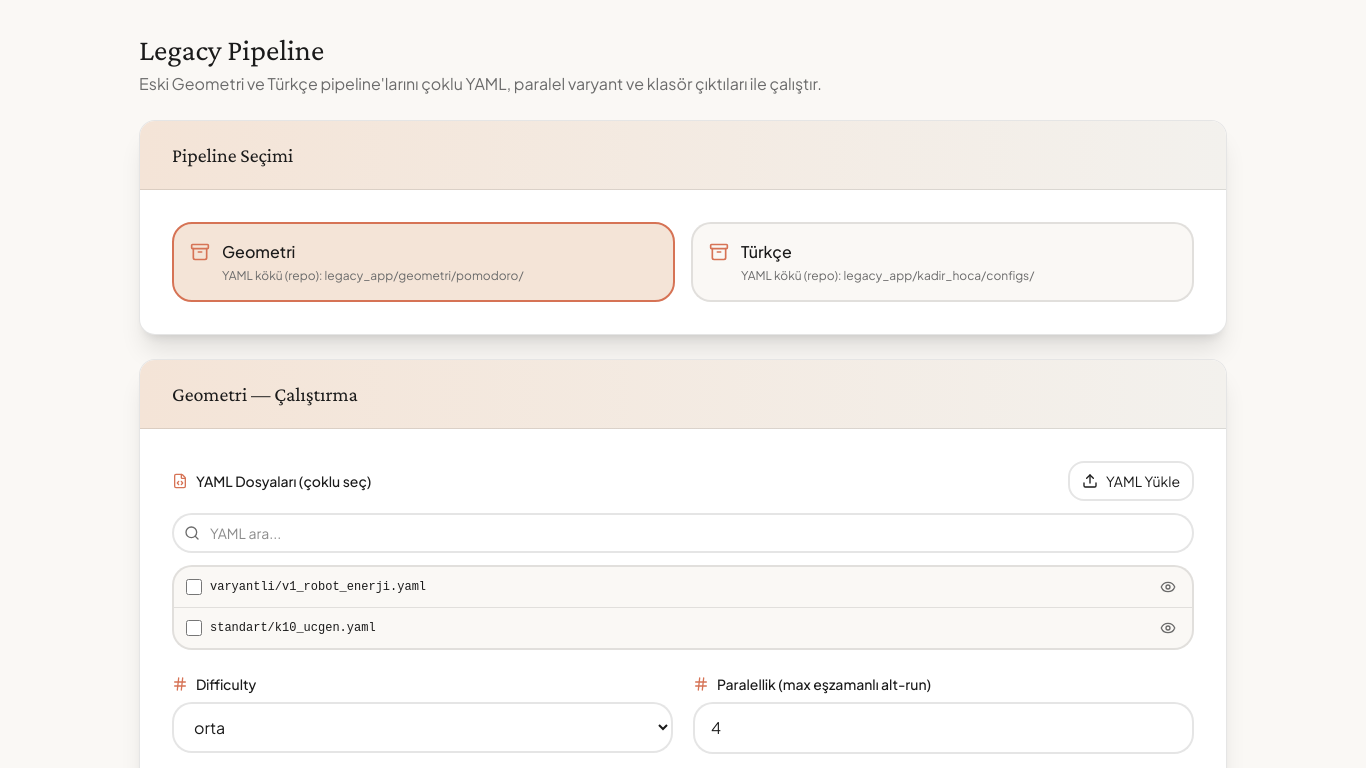
Test: LegacyPipelinePage › uploaded YAML için drawer 'Repo YAML düzenliyorsun' uyarısını göstermez
The width and height of the screenshot is (1366, 768).
Click the button "Türkçe YAML kökü (repo): legacy_app/kadir_hoca/configs/" at (766, 252), box [691,222,1194,302]
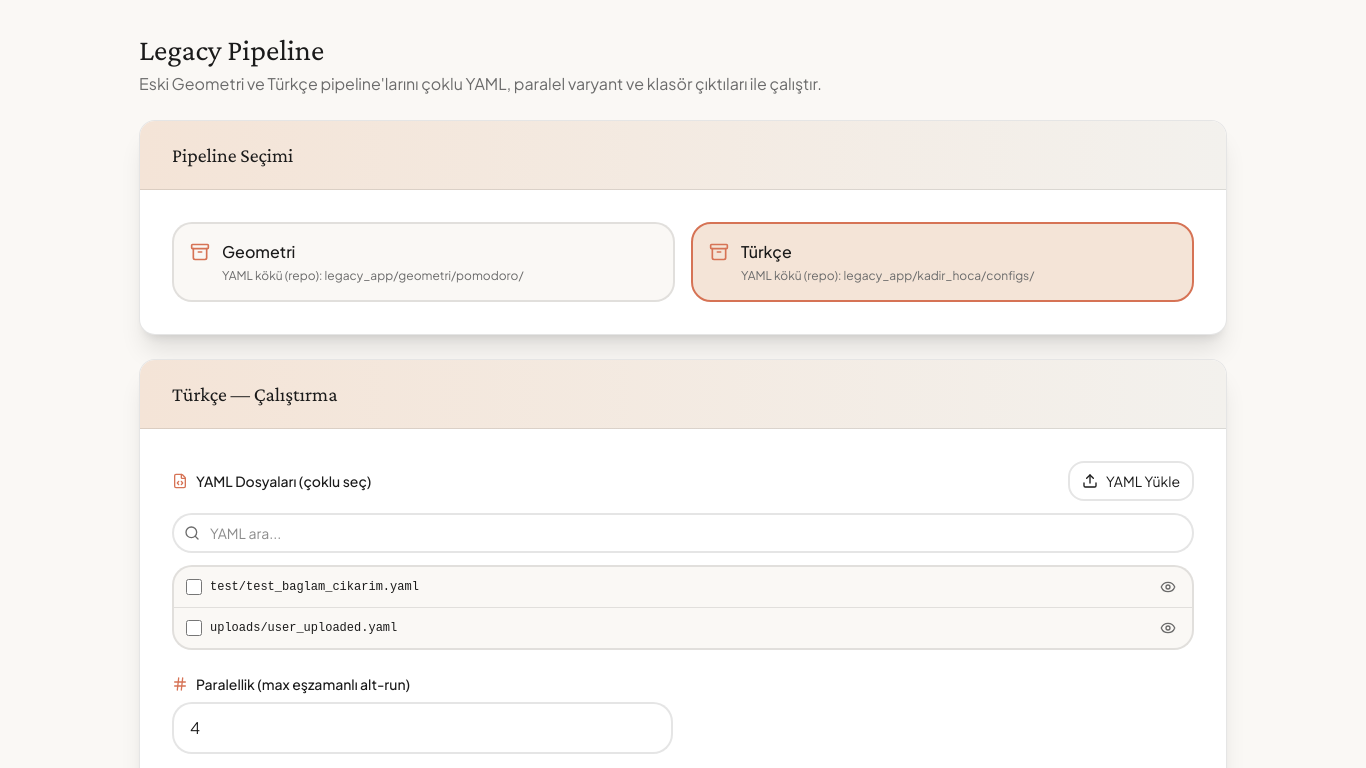
Click the button named "YAML görüntüle/düzenle: uploads/user_uploaded.yaml" at (1168, 628), box [1156,616,1180,640]
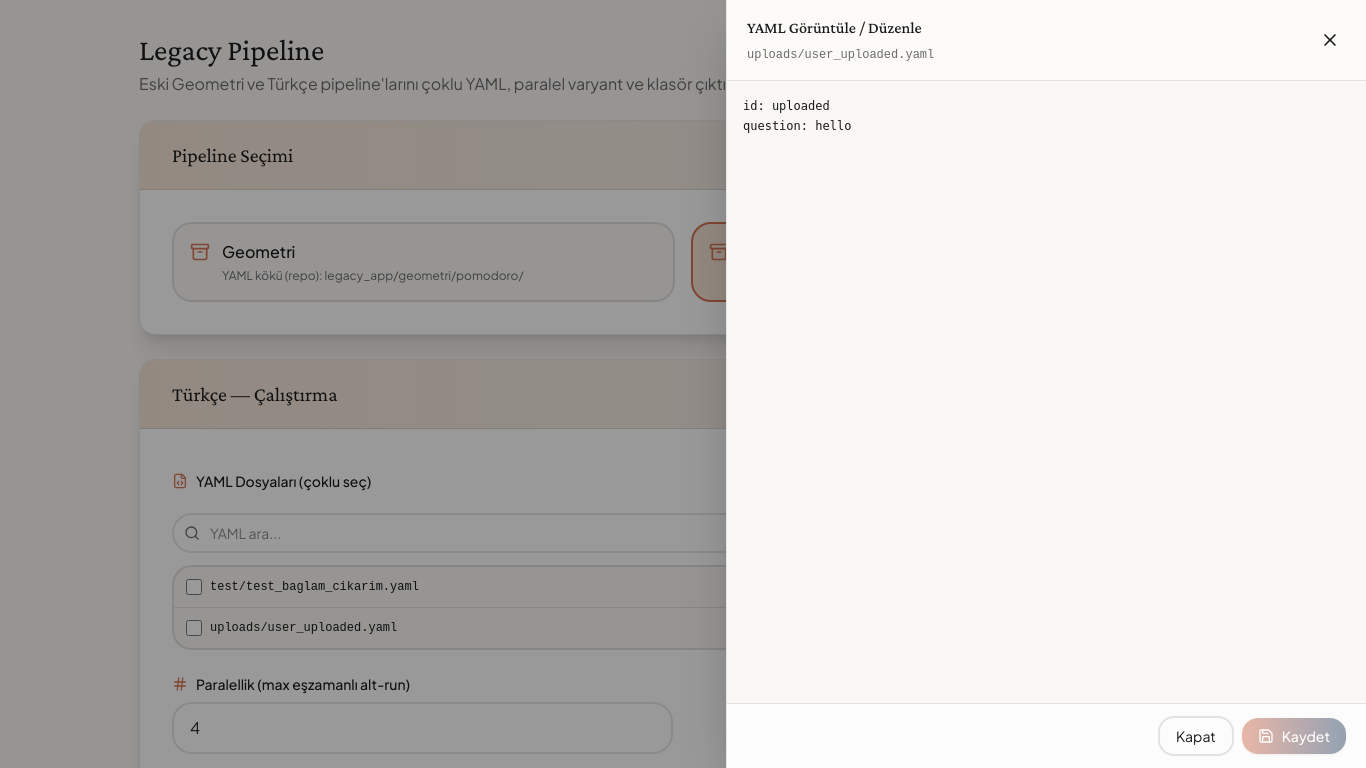
Result: the text box showing "id: uploaded" is shown at [727,81,1365,703]
